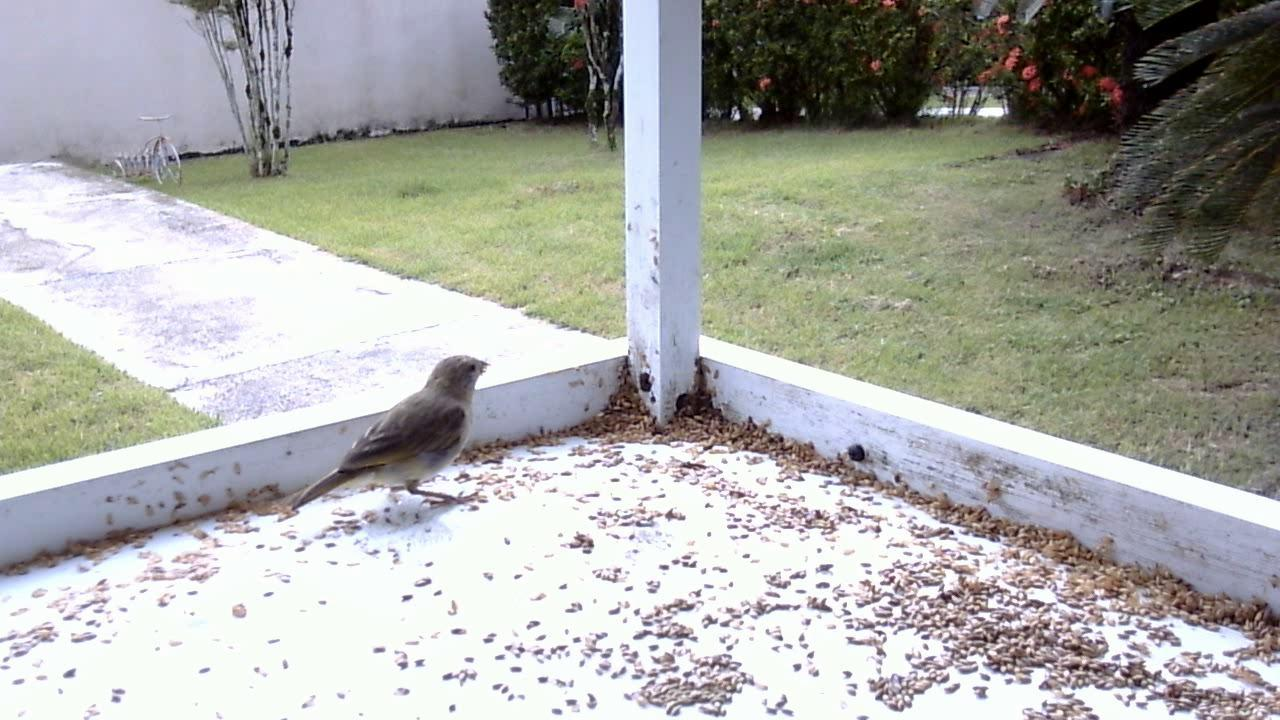canario_do_amazonas: (277, 349, 501, 530)
